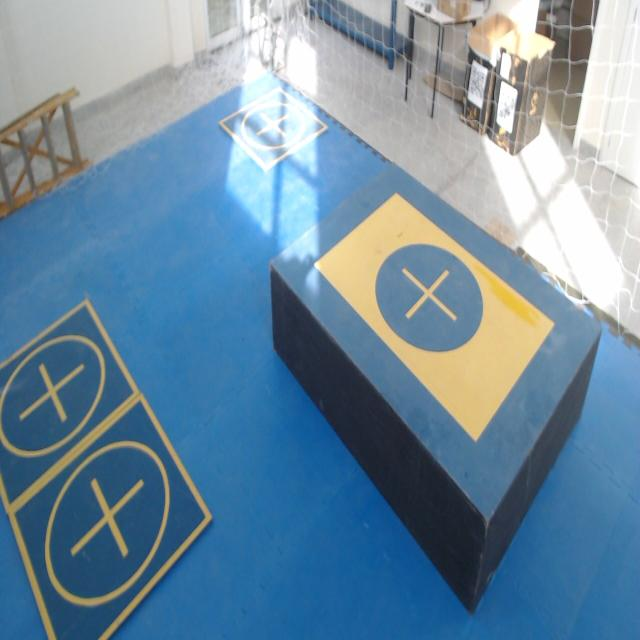base_inicio: (312, 192, 555, 443)
base_pouso: (9, 393, 214, 639), (0, 298, 142, 515), (218, 86, 329, 173)
